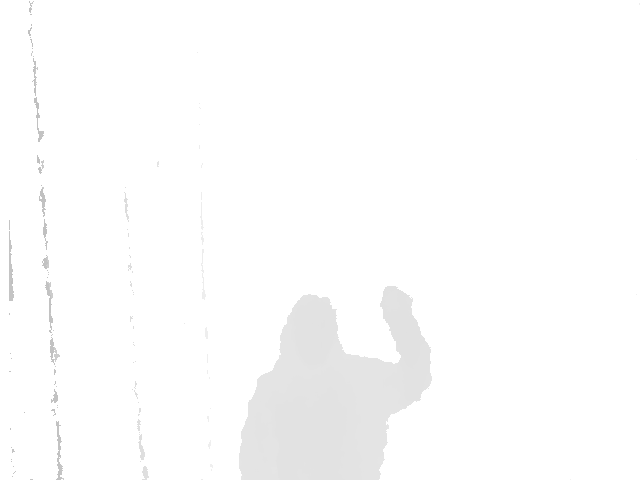hand: (374, 282, 419, 326)
head: (278, 293, 344, 369)
person: (234, 280, 436, 480)
